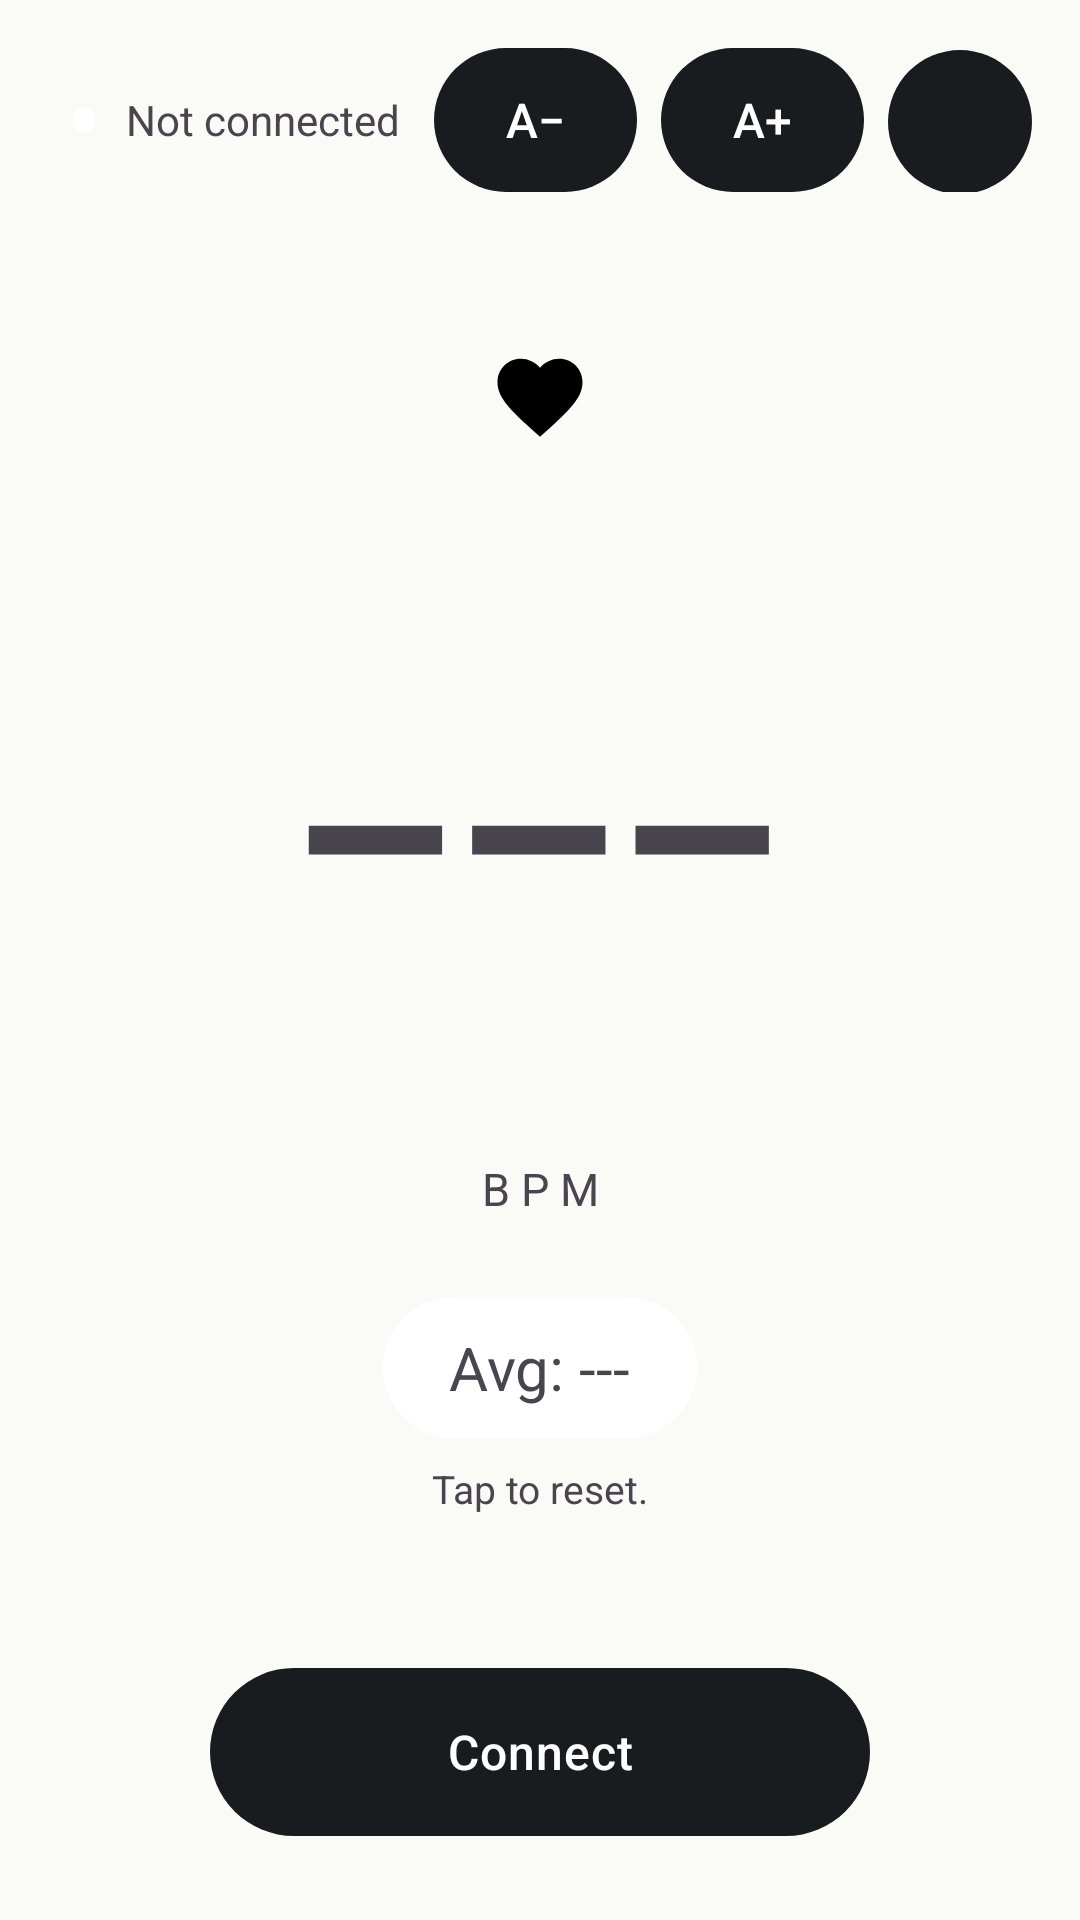

Screen size 1080*1920. Icon name, then its center in pixels as (x,y):
heart: (540,397)
